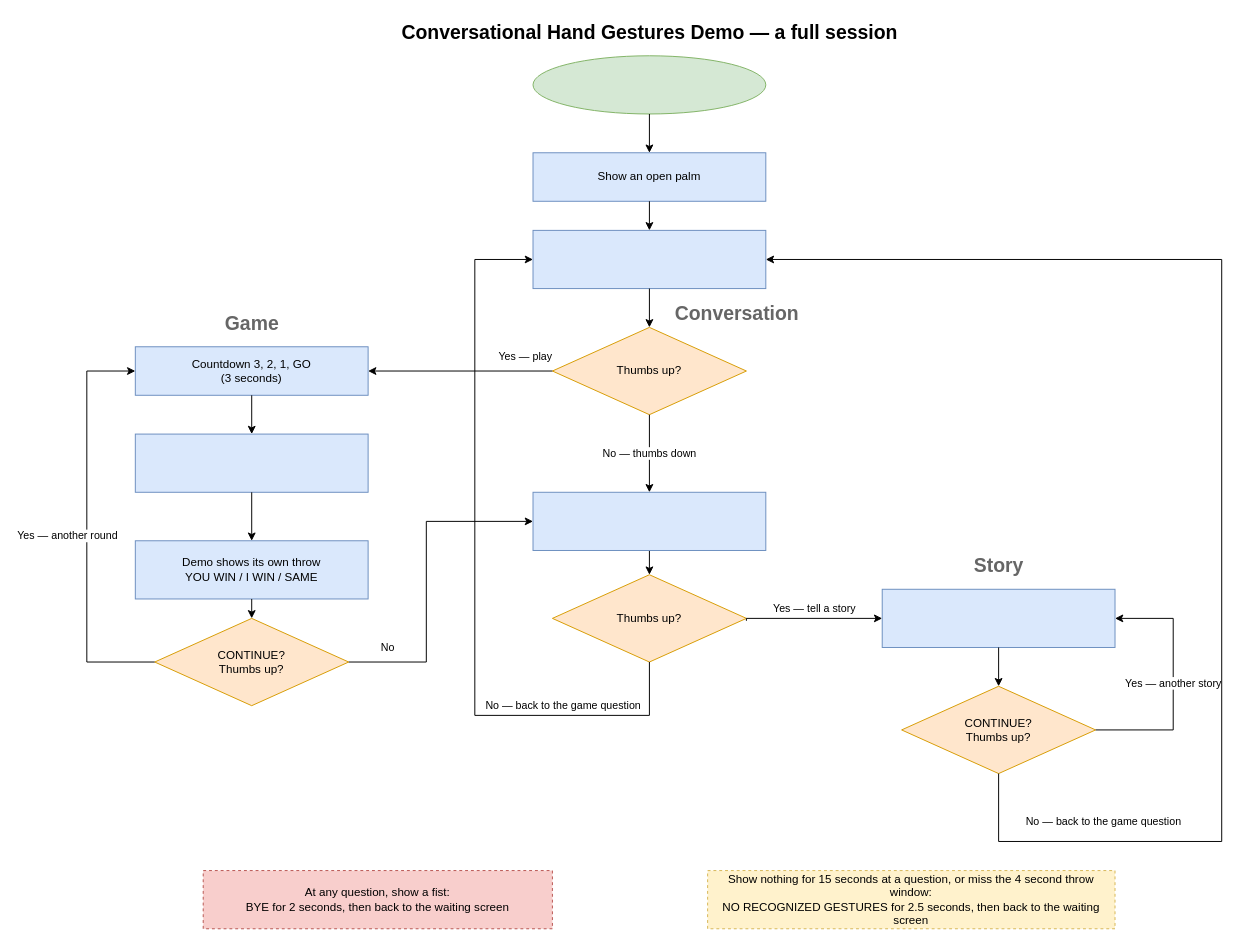
This 1246x946 diagram has some shape labels left out. The shapes that lost their labels are listed below. From the top down, each one's box as (x1, y1, x2, y2) in pixels, then its label:
(532, 55, 766, 114): Waiting screen SHOW AN OPEN HAND TO START
(532, 229, 766, 289): Demo says HI, then asks DO YOU LIKE TO PLAY A GAME?
(134, 433, 368, 492): Show rock, paper or scissors fist, open palm or victory (4 seconds)
(532, 491, 766, 550): Demo says I'M GLAD, then asks WANT TO TELL A STORY?
(881, 588, 1115, 647): A story is told about 50 seconds, cannot be stopped
